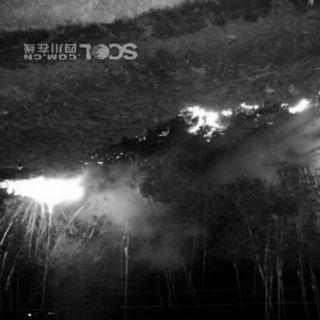Smoke: (271, 130, 311, 156)
